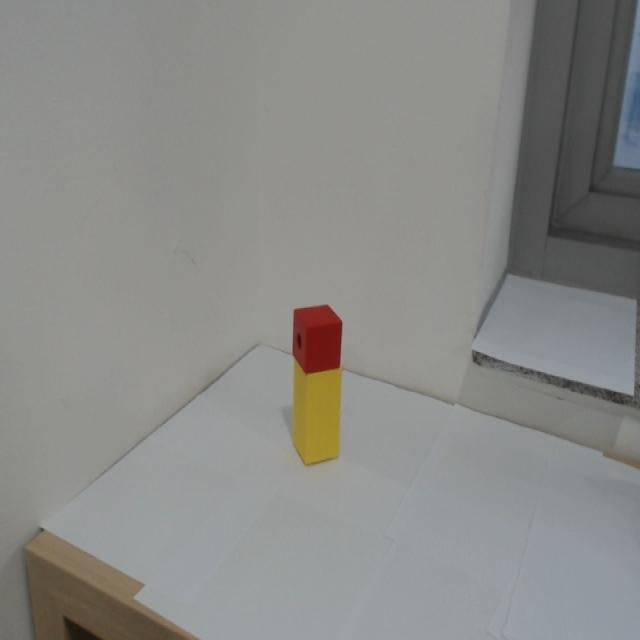cube: (292, 302, 343, 375)
